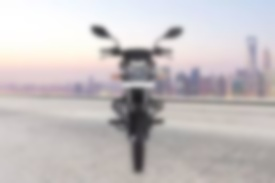Vehicle: (90, 23, 185, 174)
